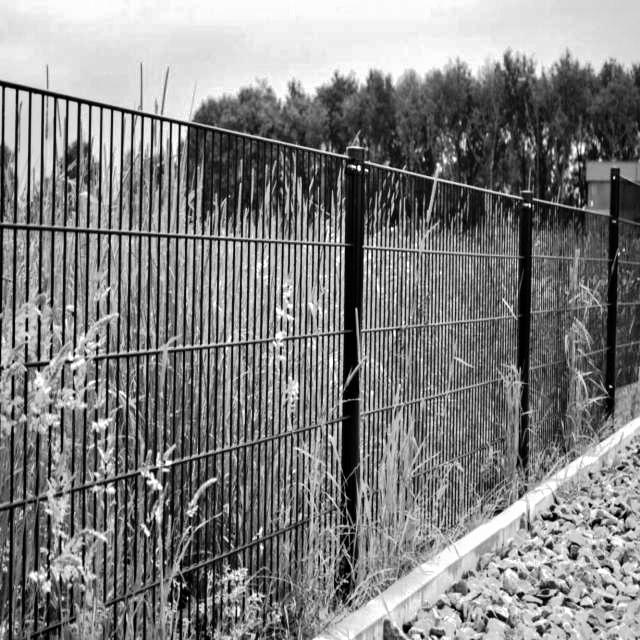fences: (5, 89, 357, 640), (377, 171, 640, 574)
